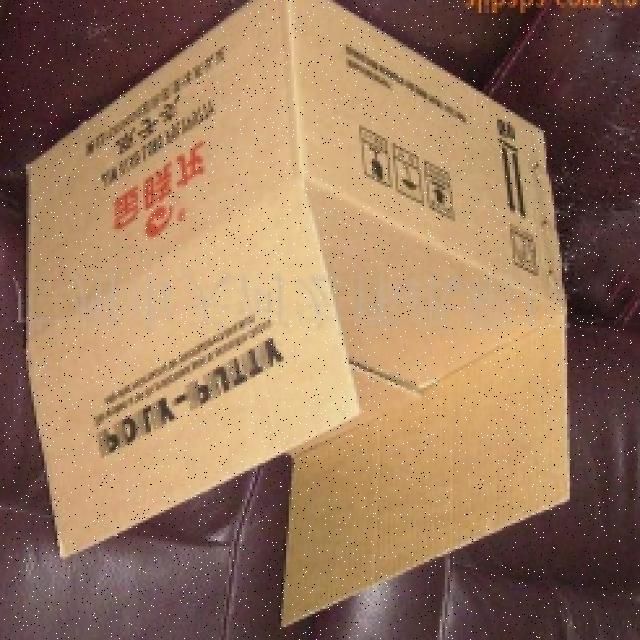box: (18, 0, 596, 619)
